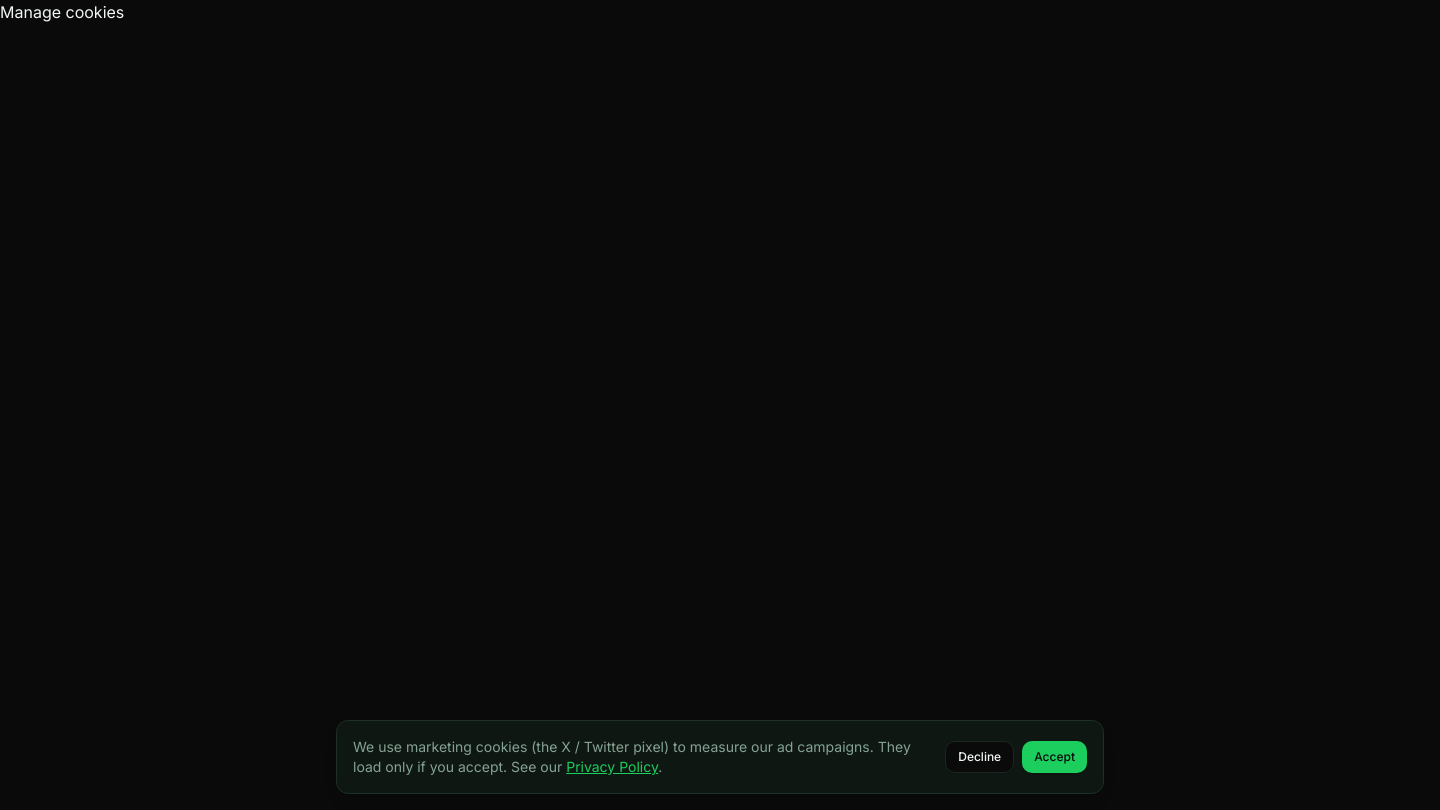
consent flow › EU visitor: Decline keeps tracking off and records the choice
Click the button "Decline" at (980, 757), box [945,741,1014,773]
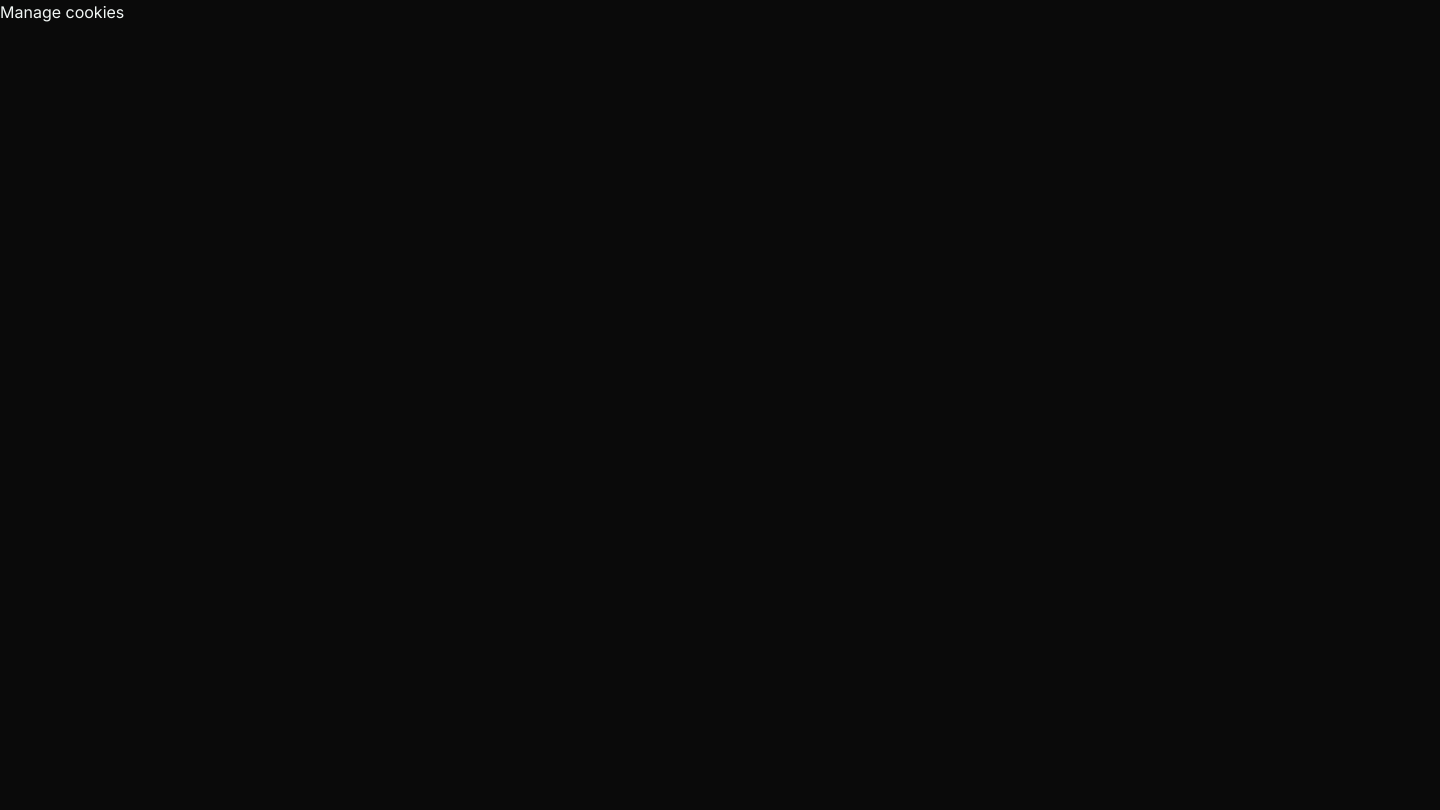
expect the dialog is gone: met
